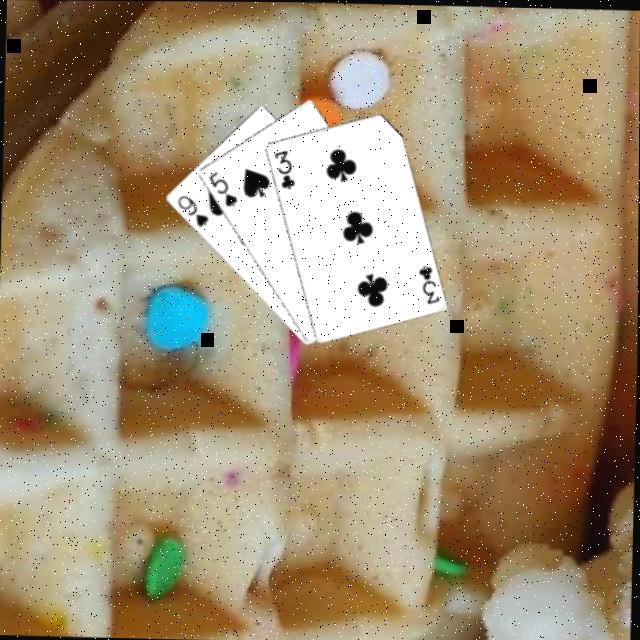3C: (415, 260, 444, 304), (271, 145, 298, 191)
5S: (204, 167, 241, 209)
9S: (174, 191, 213, 228)
